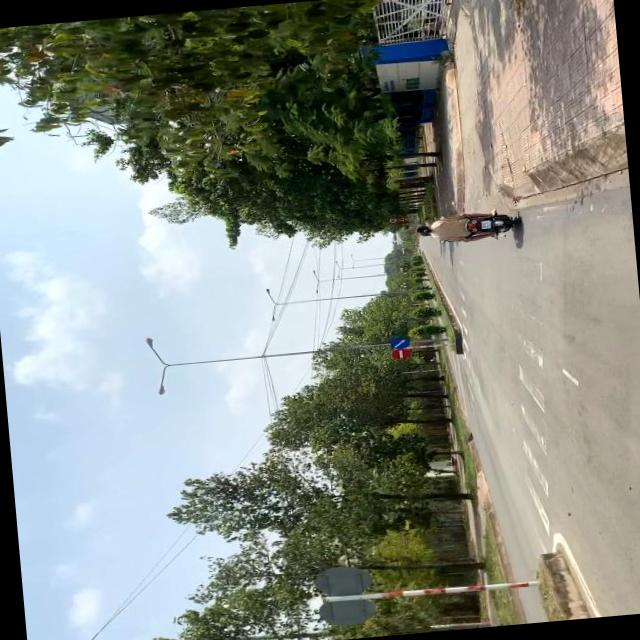P-102: (390, 348, 413, 360)
R-302a: (390, 334, 410, 350)
